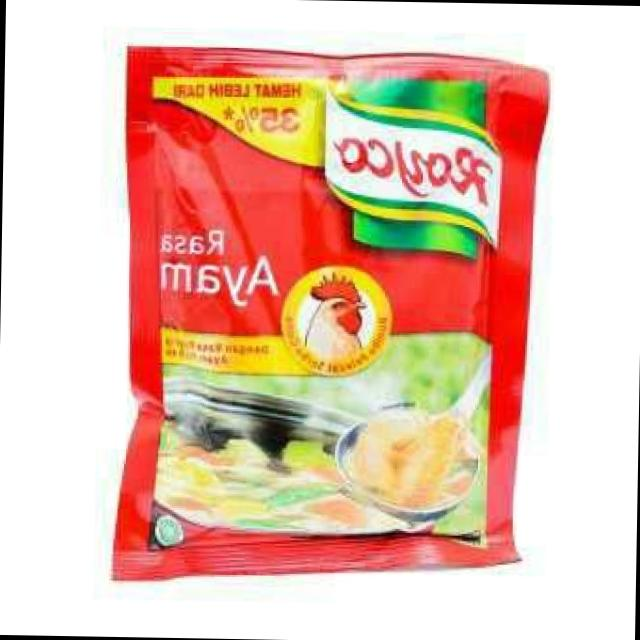KemasanPlastik: (110, 41, 552, 588)
